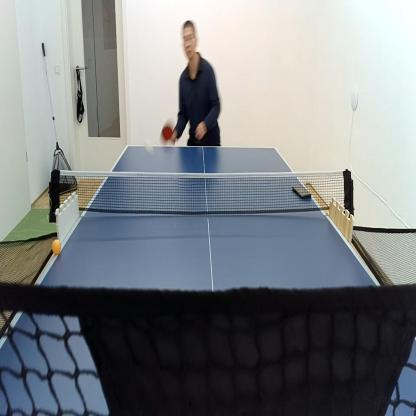Ball: (52, 238, 61, 255), (146, 139, 154, 152)
